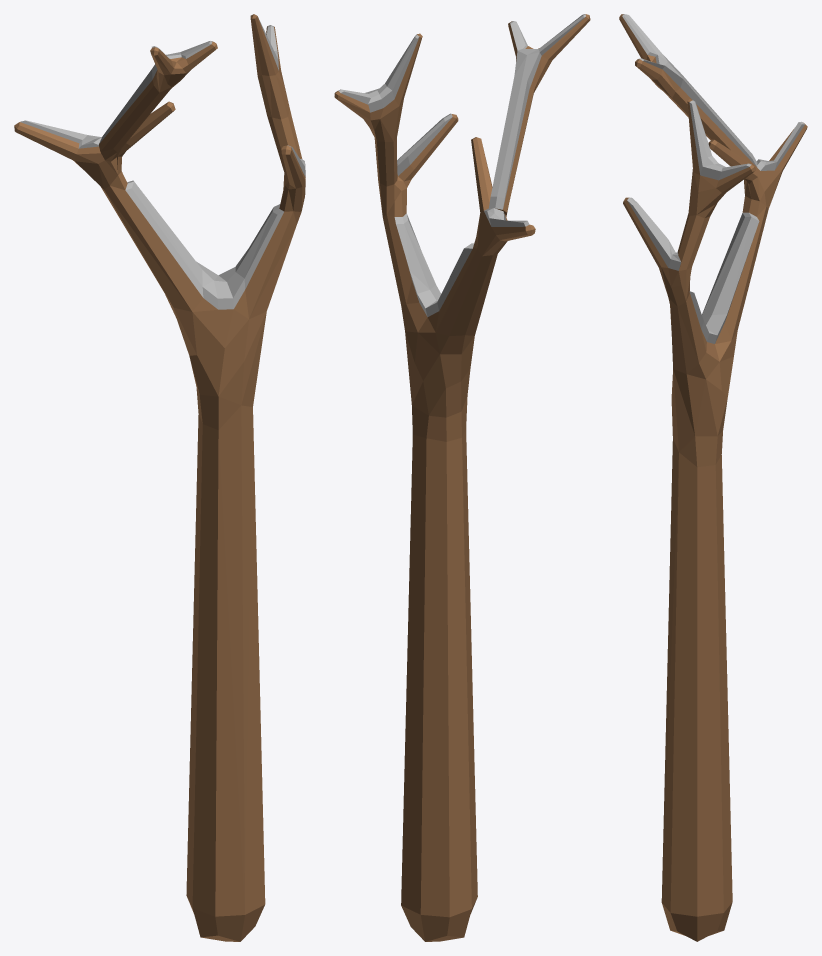
The model's file is Tree_8 Winter.fbx.
The picture shows the model from 3 angles, left to right: view 1: azimuth 30°, elevation 25°; view 2: azimuth 150°, elevation 25°; view 3: azimuth 270°, elevation 25°; orthographic projection. The views are drawn at different scales.
Parts seen in each view (by area): view 1: Tree8Winter_mesh; view 2: Tree8Winter_mesh; view 3: Tree8Winter_mesh.
Part boxes in pixels (box(x1,y1,x2,y2)): Tree8Winter_mesh: box(14, 14, 305, 941); Tree8Winter_mesh: box(334, 14, 590, 941); Tree8Winter_mesh: box(619, 14, 807, 941).
Bounding box in the file's own units: 134 × 524 × 102.
